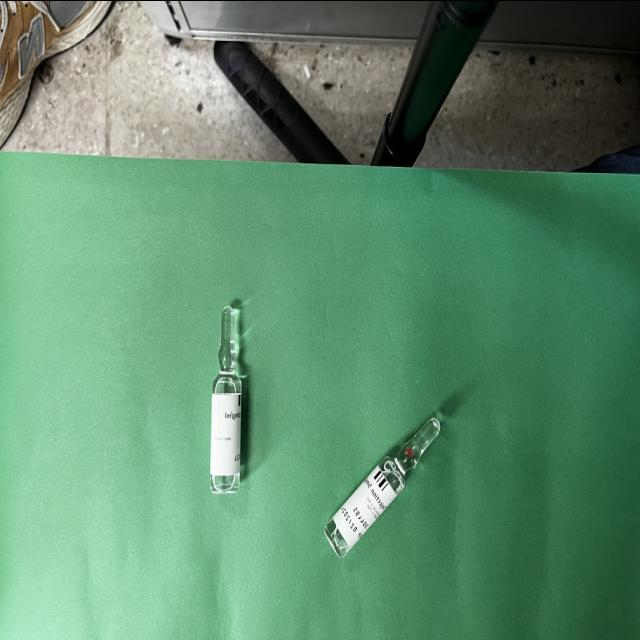Ampoules: (326, 416, 440, 555), (210, 305, 245, 492)
